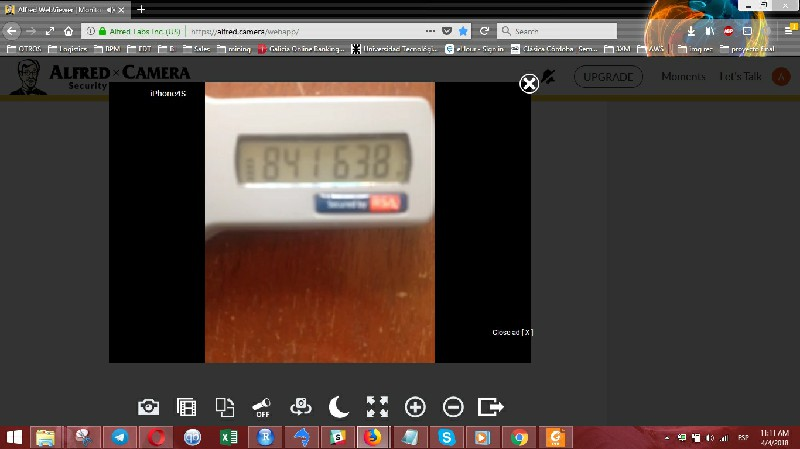display: (240, 140, 404, 184)
